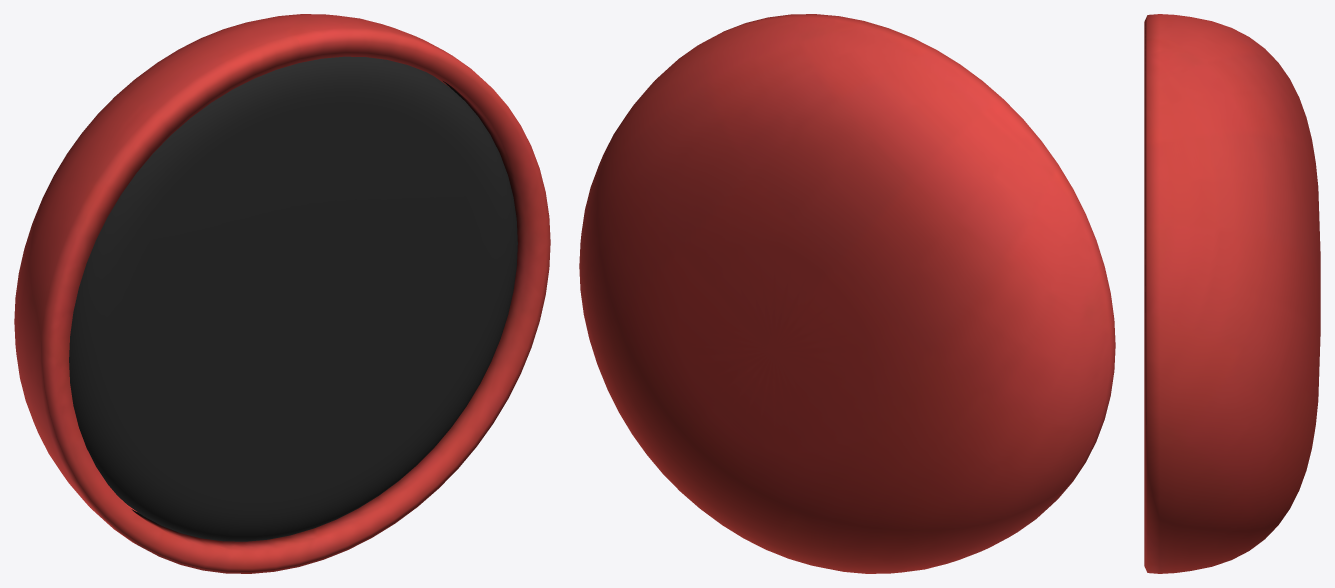
The model's file is timer_red.glb.
3 views of the same model, side by side, from view 1: azimuth 30°, elevation 25°; view 2: azimuth 150°, elevation 25°; view 3: azimuth 270°, elevation 25° (orthographic). The views are drawn at different scales.
Visible parts, largest first — view 1: Timer; view 2: Timer; view 3: Timer.
Boxes of the visible parts, box(x1,y1,x2,y2) form: Timer: box(14, 14, 550, 573); Timer: box(579, 14, 1115, 573); Timer: box(1144, 14, 1320, 573).
Bounding box in the file's own units: 1.99 × 1.99 × 0.625.
Materials: 2 (1 with a texture image).
